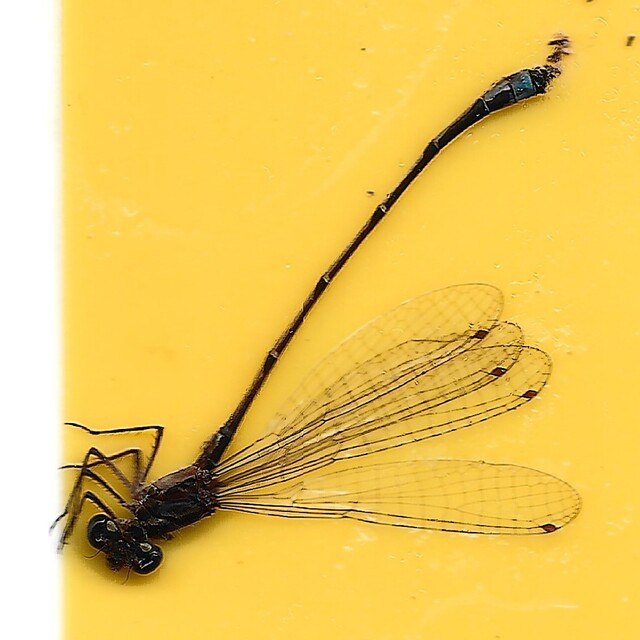Odonata: (57, 58, 583, 582)
